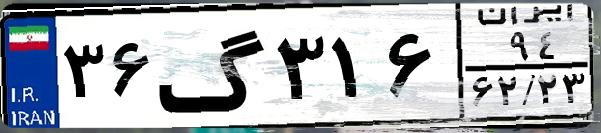1: (330, 28, 385, 110)
2: (495, 70, 520, 125), (535, 70, 560, 125)
3: (270, 28, 330, 110), (57, 26, 110, 100), (560, 70, 590, 125)
4: (537, 27, 568, 80)
6: (385, 28, 445, 110), (110, 28, 156, 98), (470, 70, 495, 125)
9: (508, 27, 537, 80)
گ: (156, 12, 270, 120)
